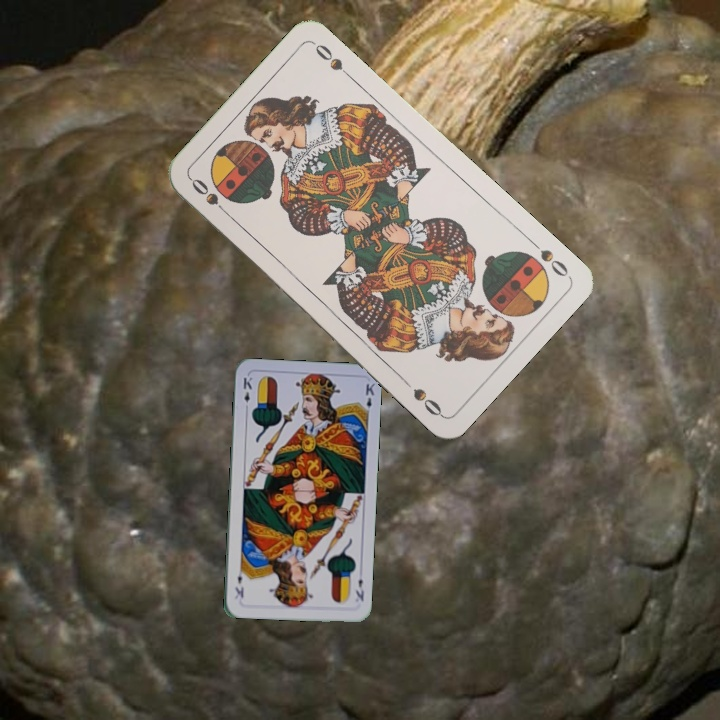EK: (239, 373, 255, 413), (351, 567, 366, 603)
SO: (187, 174, 234, 220), (525, 235, 571, 280)
